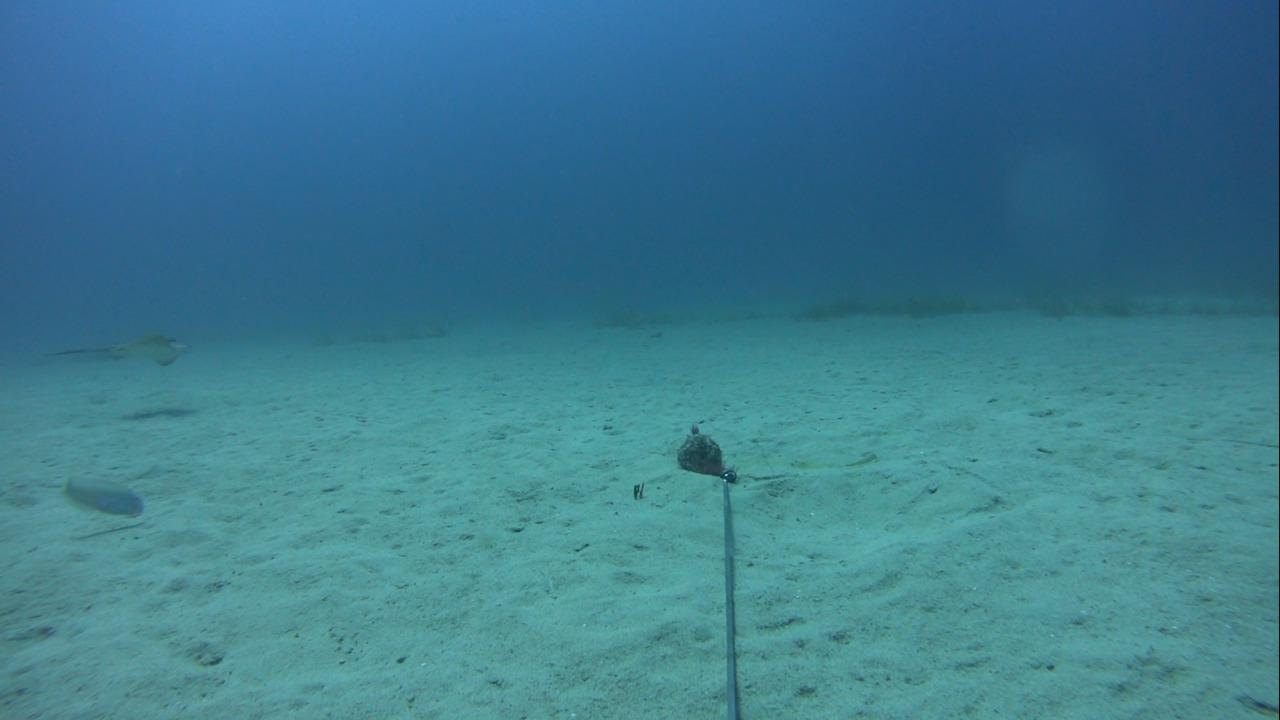myliobatis: (30, 331, 192, 375)
raor: (52, 472, 147, 519)
